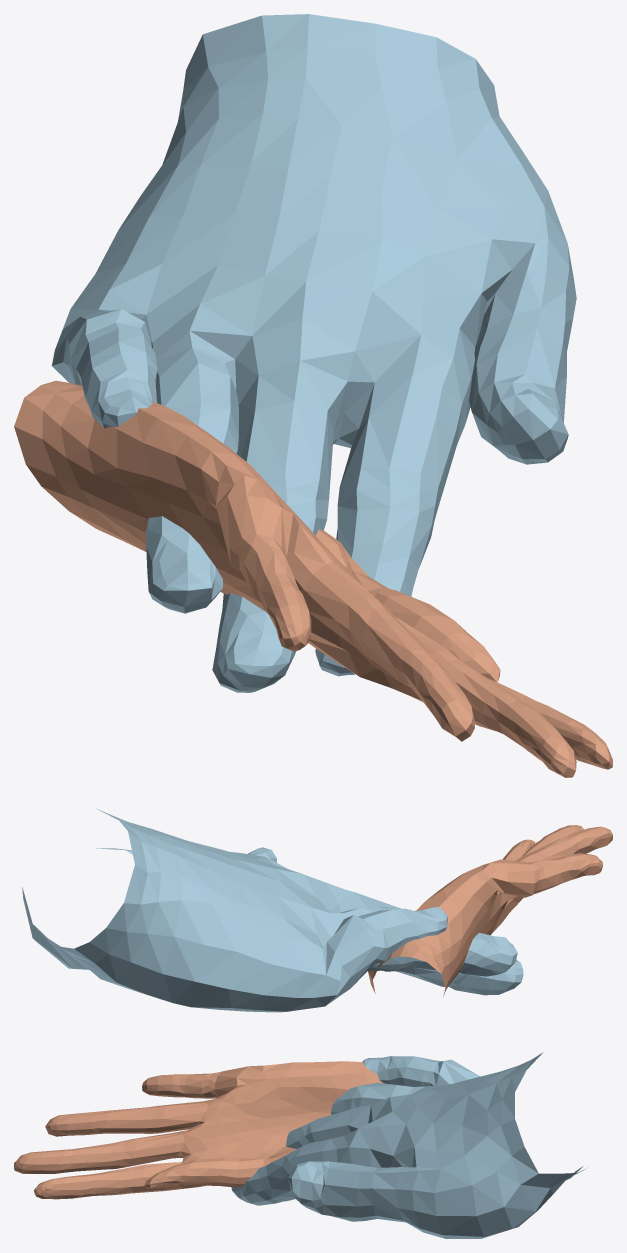
File: frame_011.glb
3 renders of one model, top to bottom at view 1: azimuth 30°, elevation 25°; view 2: azimuth 150°, elevation 25°; view 3: azimuth 270°, elevation 25°, orthographic. The views are drawn at different scales.
Parts seen in each view (by area): view 1: world; view 2: world; view 3: world.
Boxes of the visible parts, left/top/right/bottom form: world: left=14, top=14, right=612, bottom=777; world: left=22, top=808, right=612, bottom=1012; world: left=14, top=1052, right=588, bottom=1238.
Bounding box in the file's own units: 0.1426 × 0.0923 × 0.2361.
